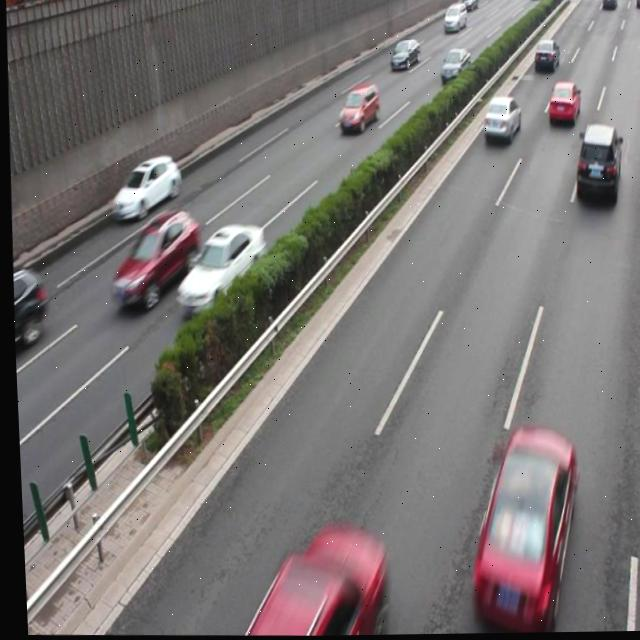car: (460, 426, 576, 622), (168, 221, 266, 321), (107, 208, 198, 310), (106, 153, 181, 223), (570, 122, 619, 203), (9, 262, 46, 355), (334, 82, 379, 135), (479, 96, 520, 145), (544, 81, 579, 129), (437, 47, 470, 85)
